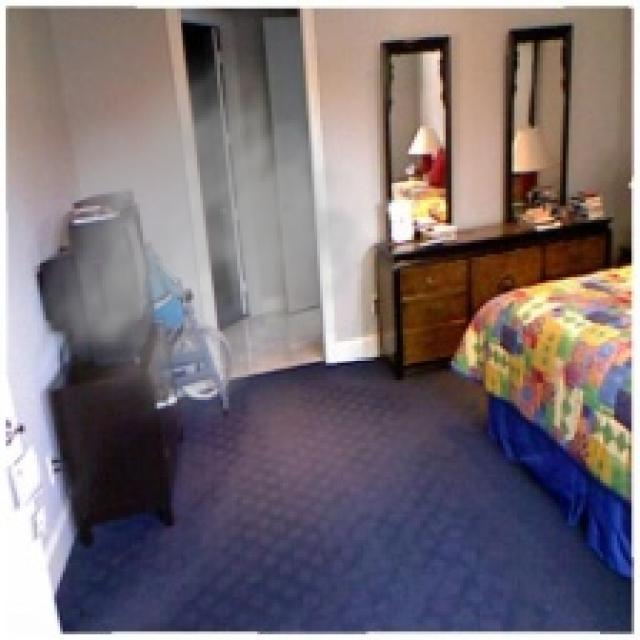smoke: (43, 43, 400, 440)
